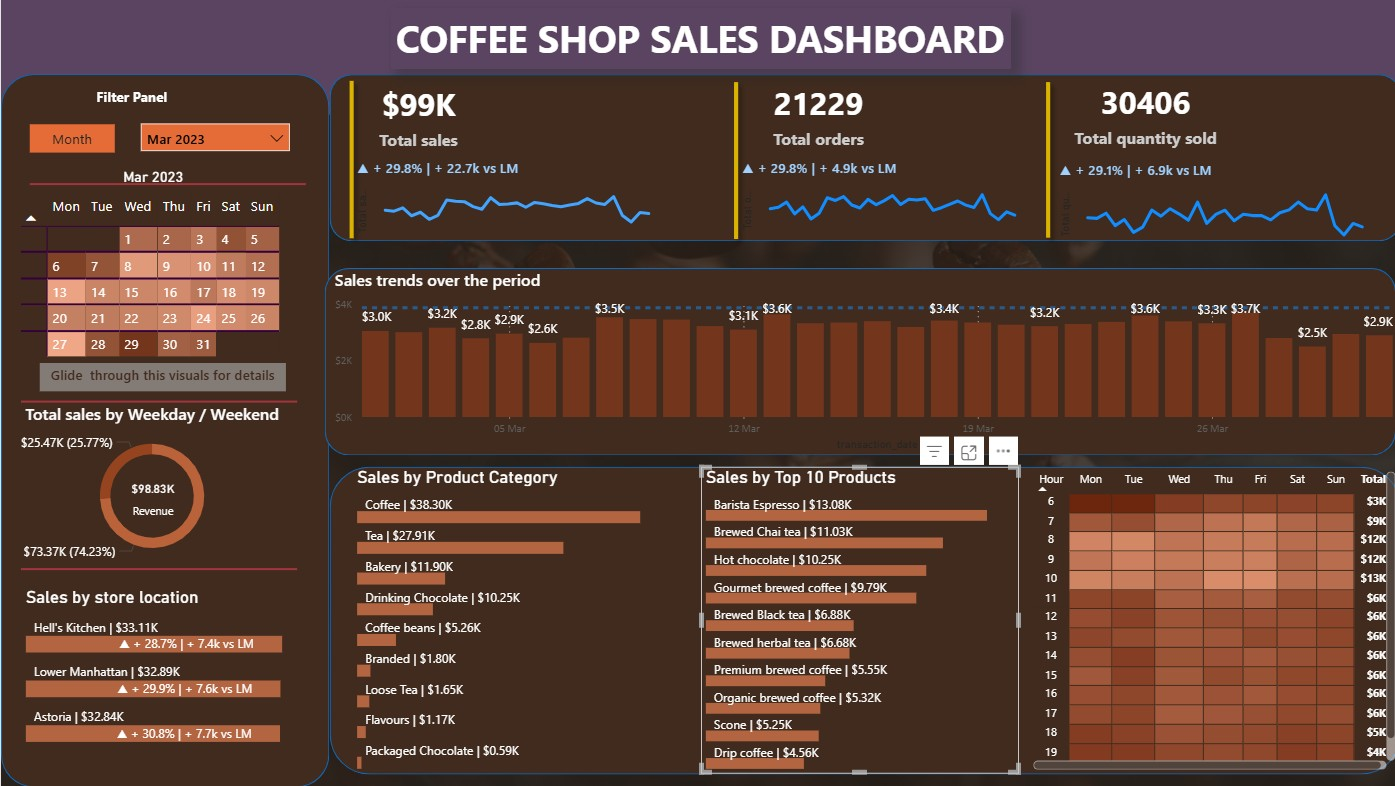

The page's visual inventory and layout, read from the dashboard file:
{"tool":"powerbi","page":{"name":"Page 1","canvas":[1383,858],"ordinal":0},"visuals":[{"type":"shape","box":[0,35.6,1383.3,114.2],"z":0},{"type":"shape","box":[231.1,107.9,230.9,173.5],"z":0,"group":"g4"},{"type":"shape","box":[604,108.9,244.6,173],"z":0,"group":"g5"},{"type":"shape","box":[882.2,109.4,305.5,171.7],"z":0,"group":"g6"},{"type":"shape","box":[0,105.4,324.4,709.6],"z":1000},{"type":"lineChart","fields":{"Category":["Date table.Date.Variation.Date Hierarchy.Year","Date table.Date.Variation.Date Hierarchy.Quarter","Date table.Date.Variation.Date Hierarchy.Month","Date table.Date.Variation.Date Hierarchy.Day"],"Y":["Transactions.Total orders"]},"box":[727,192.6,289.4,78.2],"z":1000,"group":"g5"},{"type":"lineChart","fields":{"Category":["Date table.Date.Variation.Date Hierarchy.Year","Date table.Date.Variation.Date Hierarchy.Quarter","Date table.Date.Variation.Date Hierarchy.Month","Date table.Date.Variation.Date Hierarchy.Day"],"Y":["Transactions.Total sales"]},"box":[347.3,193.2,308.2,79.7],"z":1000,"group":"g4"},{"type":"lineChart","fields":{"Category":["Date table.Date.Variation.Date Hierarchy.Year","Date table.Date.Variation.Date Hierarchy.Quarter","Date table.Date.Variation.Date Hierarchy.Month","Date table.Date.Variation.Date Hierarchy.Day"],"Y":["Transactions.Total QUANTITY SOLD"]},"box":[1041.4,195.3,319,81.1],"z":1000,"group":"g6"},{"type":"shape","box":[324.4,109.5,1058.3,164.9],"z":2000},{"type":"textbox","box":[526.6,36,442.6,60],"z":3000},{"type":"card","fields":{"Values":["Transactions.Total QUANTITY SOLD"]},"box":[1048.6,105.4,180.2,102.3],"z":4000,"group":"g3"},{"type":"card","fields":{"Values":["Transactions.Total orders"]},"box":[736.7,106.8,158.6,102.3],"z":4000,"group":"g2"},{"type":"card","fields":{"Values":["Transactions.Total sales"]},"box":[341,108.2,158.6,102.3],"z":4000,"group":"g1"},{"type":"slicer","fields":{"Values":["Date table.Month Year"]},"box":[133.8,148.7,156.8,62.2],"z":4000},{"type":"group","id":"g1","title":"Group 2","box":[231.1,107.9,424.3,173.5],"z":5000},{"type":"group","id":"g2","title":"Group 2","box":[604,106.8,412.4,175.1],"z":6000},{"type":"group","id":"g3","title":"Group 2","box":[882.2,105.4,478.2,175.7],"z":7000},{"type":"pivotTable","fields":{"Rows":["Date table.Week Number"],"Columns":["Date table.Day name"],"Values":["Min(Date table.Day Number)"]},"box":[14.9,221.7,282.5,201.4],"z":8000},{"type":"group","id":"g4","title":"Group 1","box":[231.1,107.9,424.3,173.5],"z":9000,"group":"g1"},{"type":"group","id":"g5","title":"Group 1","box":[604,108.9,412.4,173],"z":9000,"group":"g2"},{"type":"group","id":"g6","title":"Group 1","box":[882.2,109.4,478.2,171.7],"z":9000,"group":"g3"},{"type":"card","fields":{"Values":["Transactions.Foot Note"]},"box":[37.8,394.7,243.3,28.4],"z":9000},{"type":"card","fields":{"Values":["Min(Date table.Month Year)"]},"box":[106.8,197.3,85.2,24.3],"z":10000},{"type":"shape","box":[20.3,406.8,273,54.1],"z":11000},{"type":"shape","box":[28.4,191.9,273,54.1],"z":12000},{"type":"donutChart","fields":{"Category":["Date table.Weekday / Weekend"],"Y":["Transactions.Total sales"]},"box":[6.8,433.9,286.5,164.9],"z":13000},{"type":"card","fields":{"Values":["Transactions.Total sales"]},"box":[89.2,486.6,123,82.4],"z":14000},{"type":"shape","box":[20.3,571.7,273,54.1],"z":15000},{"type":"clusteredBarChart","title":"Sales by store location ","fields":{"Category":["Transactions.store_location"],"Y":["Transactions.placeholder","Transactions.Total sales"]},"box":[20.3,616.3,293.3,160.8],"z":16000},{"type":"shape","box":[320.3,301.4,1058.3,185.2],"z":17000},{"type":"clusteredColumnChart","title":"Sales trends over the period  ","fields":{"Category":["Transactions.transaction_date"],"Y":["Transactions.Total sales"]},"box":[324.4,301.4,1058.3,185.2],"z":18000},{"type":"shape","box":[324.4,497.4,1058.3,304.1],"z":19000},{"type":"clusteredBarChart","title":"Sales by store location ","fields":{"Y":["Transactions.placeholder","Transactions.Total sales"],"Category":["Transactions.product_category"]},"box":[347.4,497.4,316.3,304.1],"z":21000},{"type":"clusteredBarChart","title":"Sales by store location ","fields":{"Y":["Transactions.placeholder","Transactions.Total sales"],"Category":["Transactions.product_type"]},"box":[692,497.4,314.9,304.1],"z":22000},{"type":"pivotTable","fields":{"Rows":["Transactions.Hour"],"Columns":["Date table.Day name"],"Values":["Transactions.Total sales"]},"box":[1015.1,497.4,367.6,304.1],"z":23000},{"type":"textbox","box":[28.4,159.5,83.8,28.4],"z":24000},{"type":"textbox","box":[70.3,118.9,121.6,29.7],"z":25000}]}

Visuals, with their boxes on the page's 1383x858 design canvas (x1, y1, x2, y2). These are canvas units, not pixel positions in the 1395x786 screenshot, which may show the page scaled, cropped or inside an application window:
shape: crop(0, 36, 1383, 150)
shape: crop(231, 108, 462, 281)
shape: crop(604, 109, 849, 282)
shape: crop(882, 109, 1188, 281)
shape: crop(0, 105, 324, 815)
lineChart - Date table.Date.Variation.Date Hierarchy.Year x Date table.Date.Variation.Date Hierarchy.Quarter: crop(727, 193, 1016, 271)
lineChart - Date table.Date.Variation.Date Hierarchy.Year x Date table.Date.Variation.Date Hierarchy.Quarter: crop(347, 193, 656, 273)
lineChart - Date table.Date.Variation.Date Hierarchy.Year x Date table.Date.Variation.Date Hierarchy.Quarter: crop(1041, 195, 1360, 276)
shape: crop(324, 110, 1383, 274)
textbox: crop(527, 36, 969, 96)
card - Transactions.Total QUANTITY SOLD: crop(1049, 105, 1229, 208)
card - Transactions.Total orders: crop(737, 107, 895, 209)
card - Transactions.Total sales: crop(341, 108, 500, 210)
slicer - Date table.Month Year: crop(134, 149, 291, 211)
"Group 2" group: crop(231, 108, 655, 281)
"Group 2" group: crop(604, 107, 1016, 282)
"Group 2" group: crop(882, 105, 1360, 281)
pivotTable - Date table.Week Number x Date table.Day name: crop(15, 222, 297, 423)
"Group 1" group: crop(231, 108, 655, 281)
"Group 1" group: crop(604, 109, 1016, 282)
"Group 1" group: crop(882, 109, 1360, 281)
card - Transactions.Foot Note: crop(38, 395, 281, 423)
card - Min(Date table.Month Year): crop(107, 197, 192, 222)
shape: crop(20, 407, 293, 461)
shape: crop(28, 192, 301, 246)
donutChart - Date table.Weekday / Weekend x Transactions.Total sales: crop(7, 434, 293, 599)
card - Transactions.Total sales: crop(89, 487, 212, 569)
shape: crop(20, 572, 293, 626)
"Sales by store location " clusteredBarChart: crop(20, 616, 314, 777)
shape: crop(320, 301, 1379, 487)
"Sales trends over the period  " clusteredColumnChart: crop(324, 301, 1383, 487)
shape: crop(324, 497, 1383, 802)
"Sales by store location " clusteredBarChart: crop(347, 497, 664, 802)
"Sales by store location " clusteredBarChart: crop(692, 497, 1007, 802)
pivotTable - Transactions.Hour x Date table.Day name: crop(1015, 497, 1383, 802)
textbox: crop(28, 160, 112, 188)
textbox: crop(70, 119, 192, 149)
